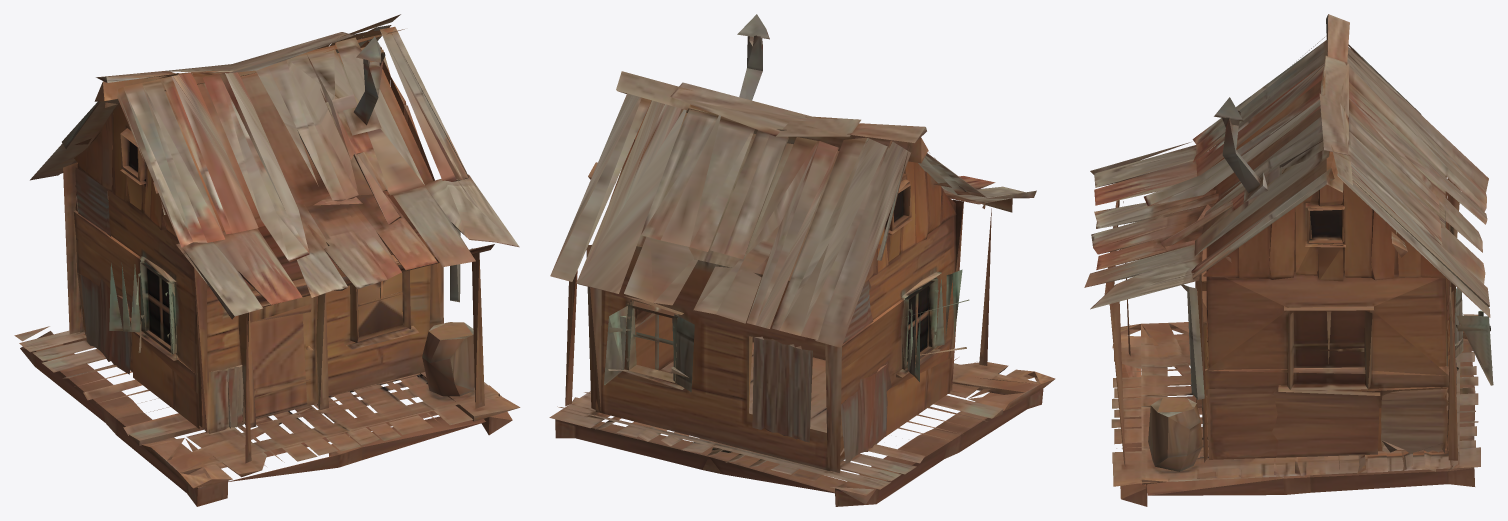
The model's file is wl_shack_far_b.glb.
The picture shows the model from 3 angles, left to right: view 1: azimuth 30°, elevation 25°; view 2: azimuth 150°, elevation 25°; view 3: azimuth 270°, elevation 25°; orthographic projection.
Visible parts, largest first — view 1: wl_shack; view 2: wl_shack; view 3: wl_shack.
Boxes of the visible parts, x1=… form: wl_shack: x1=14, y1=14, x2=520, y2=506; wl_shack: x1=549, y1=14, x2=1055, y2=506; wl_shack: x1=1084, y1=14, x2=1493, y2=506.
Bounding box in the file's own units: 4.13 × 4.5 × 4.48.
1 material, 1 textured.
